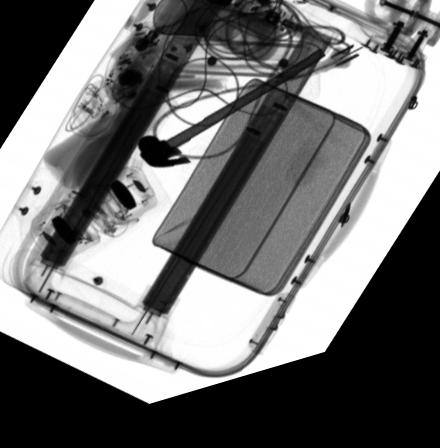Hammer: (137, 66, 327, 176)
